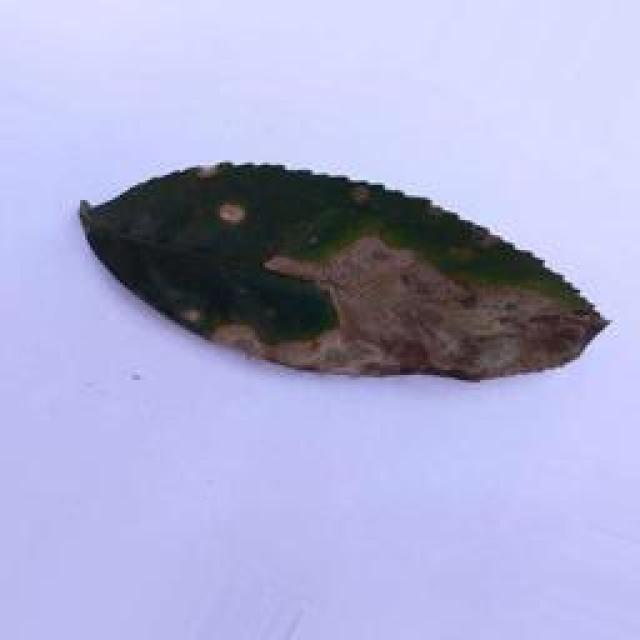Gray Blight: (71, 159, 612, 385)
